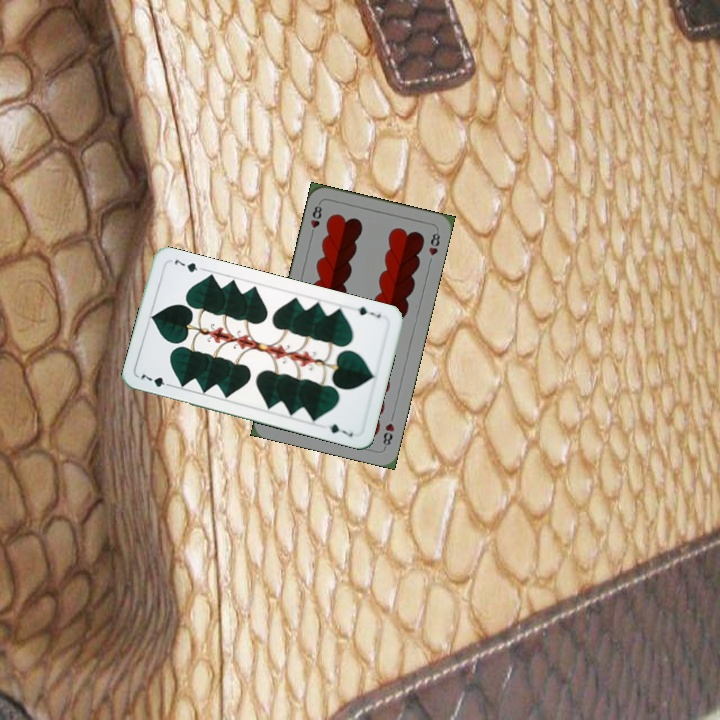G7: (137, 370, 176, 390), (354, 302, 384, 320)
H8: (306, 199, 325, 239), (379, 419, 397, 451)
